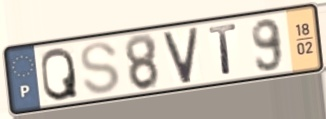8: (123, 32, 162, 93)
9: (249, 16, 285, 73)
Q: (39, 45, 81, 103)
S: (78, 40, 122, 97)
T: (206, 22, 239, 79)
V: (161, 25, 202, 87)
